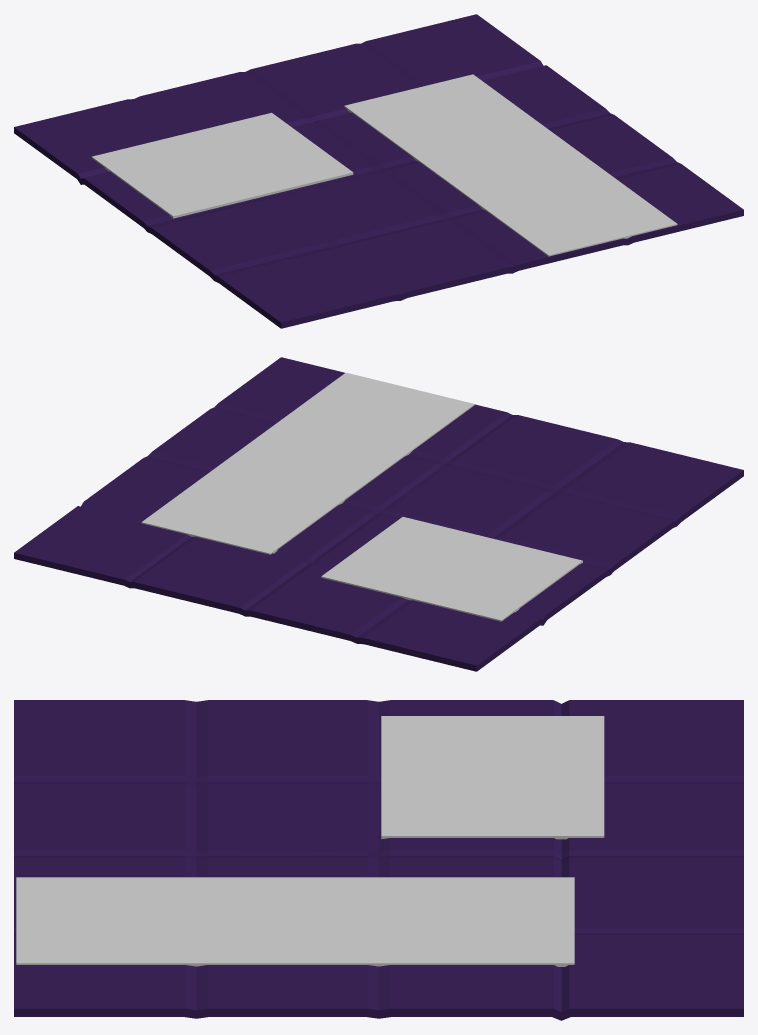
The model's file is lantai ruang komp.fbx.
3 views of the same model, one above another, from view 1: azimuth 30°, elevation 25°; view 2: azimuth 150°, elevation 25°; view 3: azimuth 270°, elevation 25° (orthographic). The views are drawn at different scales.
Parts seen in each view (by area): view 1: Plane.003; view 2: Plane.003; view 3: Plane.003.
Boxes of the visible parts, box(x1,y1,x2,y2) form: Plane.003: box(14, 14, 743, 328); Plane.003: box(14, 357, 743, 671); Plane.003: box(14, 700, 743, 1020).
Size of the model in its own units: 2260 by 53.88 by 2260.
